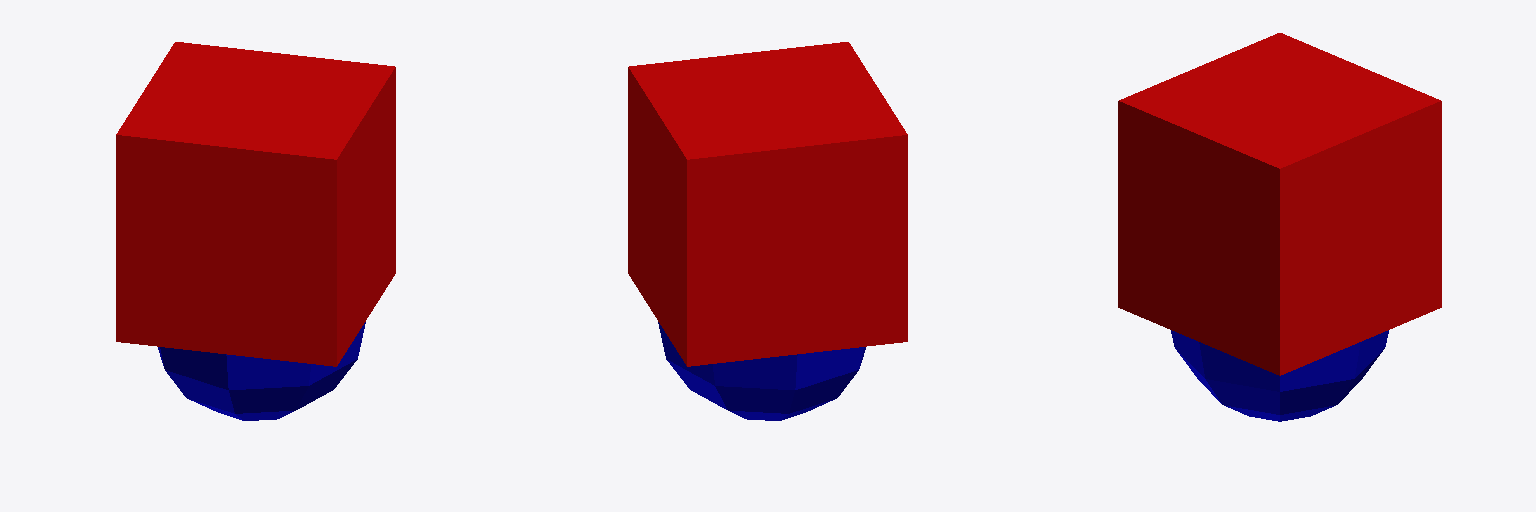
The model's file is doubleg.obj.
The picture shows the model from 3 angles: view 1: azimuth 30°, elevation 25°; view 2: azimuth 150°, elevation 25°; view 3: azimuth 270°, elevation 25°; orthographic projection.
Parts seen in each view (by area): view 1: Top_Cube.001, Sphere; view 2: Top_Cube.001, Sphere; view 3: Top_Cube.001, Sphere.
Boxes of the visible parts, box(x1,y1,x2,y2) form: Top_Cube.001: box(116, 42, 395, 366); Sphere: box(158, 322, 365, 420); Top_Cube.001: box(628, 42, 907, 366); Sphere: box(658, 322, 865, 420); Top_Cube.001: box(1118, 33, 1441, 375); Sphere: box(1171, 330, 1388, 421).
Size of the model in its own units: 2.83 by 3 by 2.83.